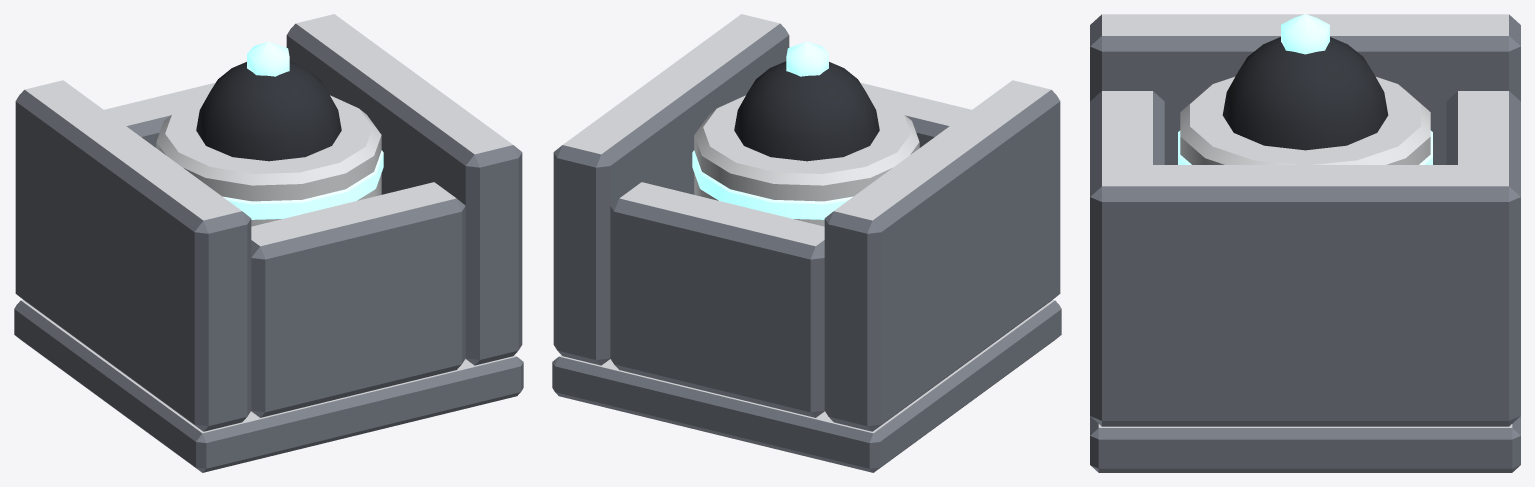
The model's file is R4X_DeployableShieldGenerator_LOD1.fbx.
3 views of the same model, side by side, from view 1: azimuth 30°, elevation 25°; view 2: azimuth 150°, elevation 25°; view 3: azimuth 270°, elevation 25° (orthographic). The views are drawn at different scales.
Parts seen in each view (by area): view 1: R4X_DeployableShieldGenerator_LOD1; view 2: R4X_DeployableShieldGenerator_LOD1; view 3: R4X_DeployableShieldGenerator_LOD1.
Part boxes in pixels (x1=…): R4X_DeployableShieldGenerator_LOD1: x1=14, y1=14, x2=523, y2=472; R4X_DeployableShieldGenerator_LOD1: x1=552, y1=14, x2=1061, y2=472; R4X_DeployableShieldGenerator_LOD1: x1=1090, y1=14, x2=1520, y2=472.
Bounding box in the file's own units: 0.52 × 0.495 × 0.52.
